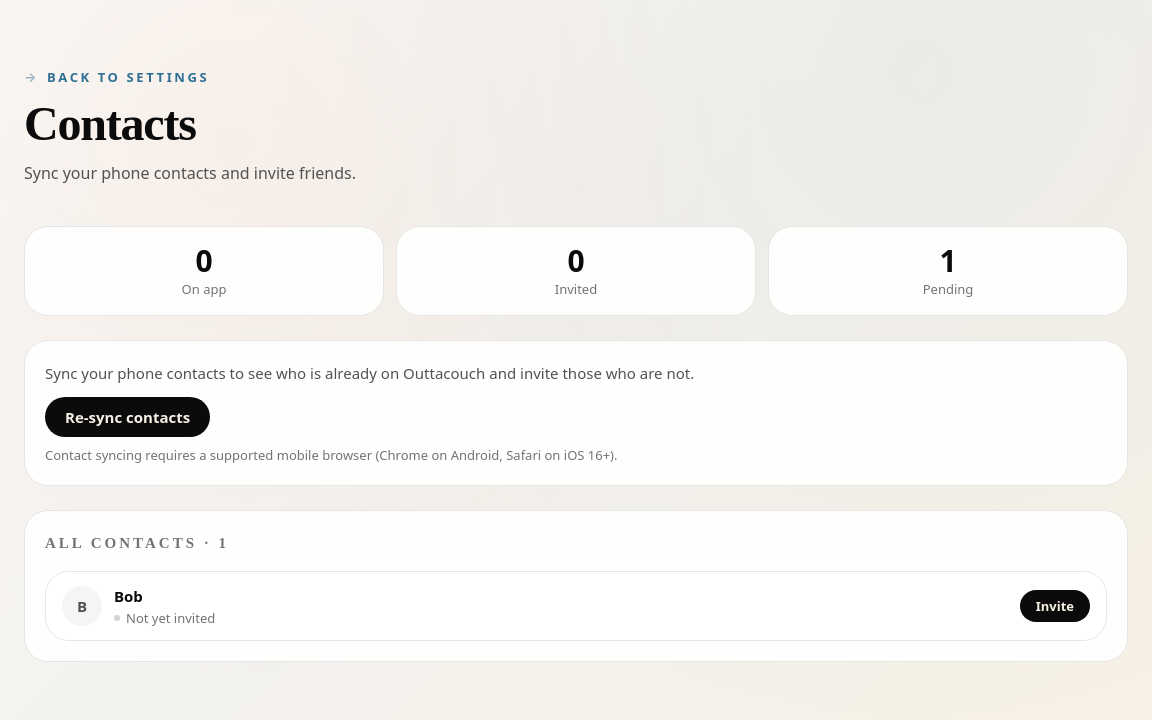
it: remaining page branches › ContactsPage treats a non-OK invite response as a failure
Click the button "Invite" at (1055, 606), box [1020, 590, 1090, 622]
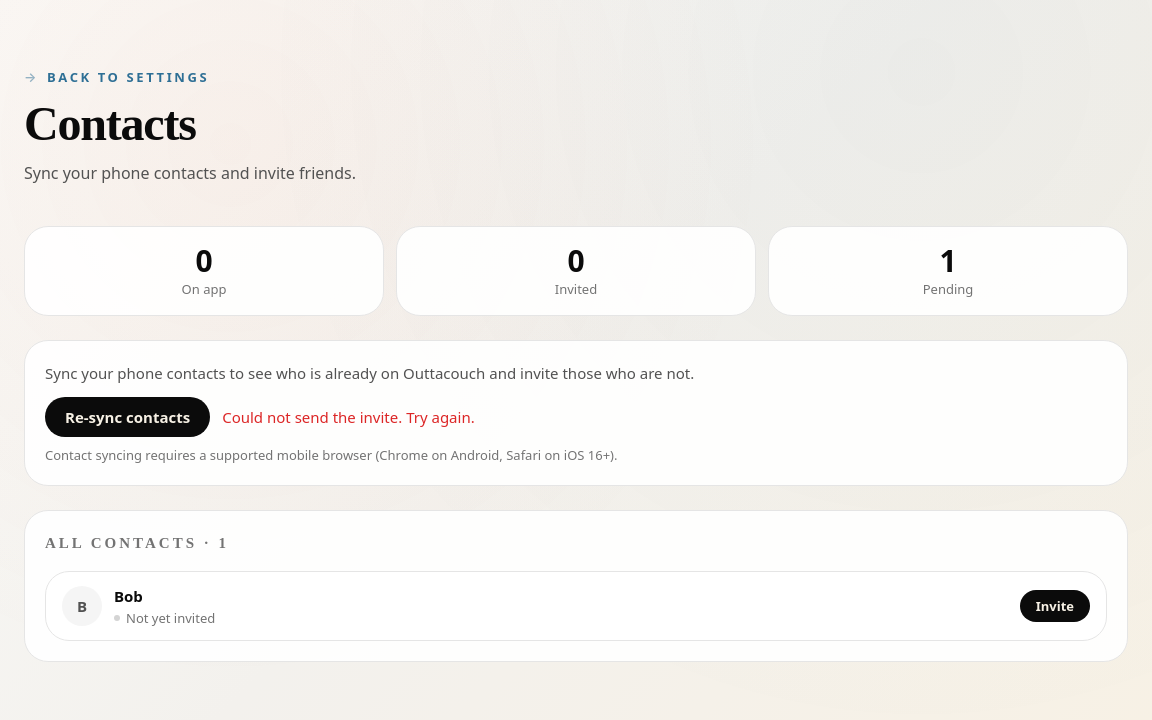
Expected: the text "Could not send the invite. Try again." is shown, [222, 405, 475, 429]
